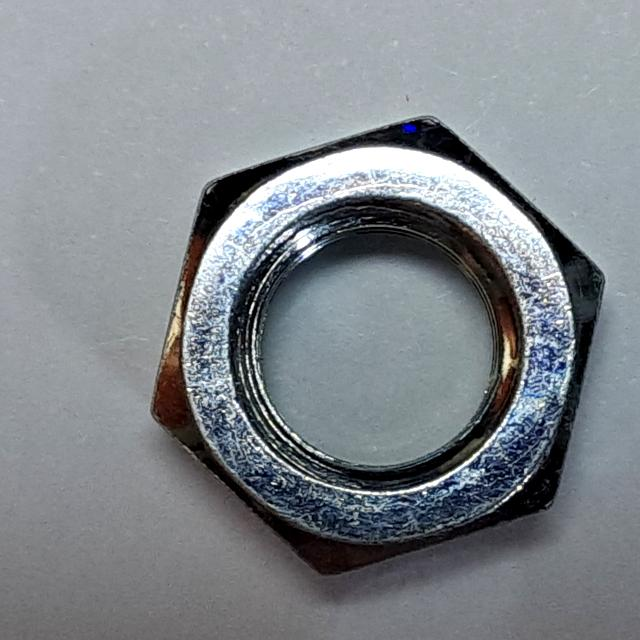Excellent: (126, 100, 623, 590)
